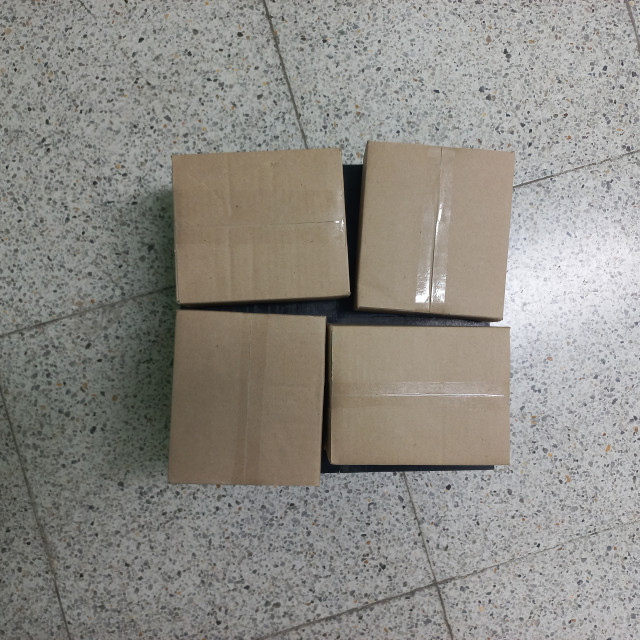box: (351, 138, 516, 324), (167, 146, 353, 309), (165, 306, 327, 487), (325, 321, 514, 466)
